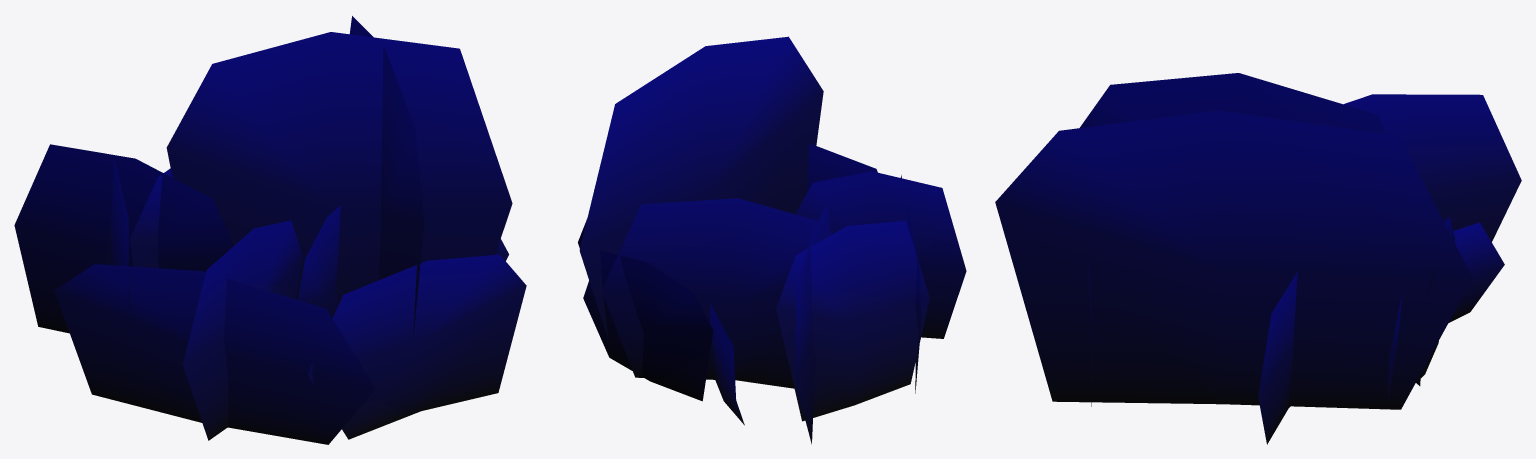
File: SM_Grass_S_Patch_Md_05.fbx
The picture shows the model from 3 angles, left to right: view 1: azimuth 30°, elevation 25°; view 2: azimuth 150°, elevation 25°; view 3: azimuth 270°, elevation 25°; orthographic projection. The views are drawn at different scales.
Visible parts, largest first — view 1: SM_Grass_S_Patch_Md_05; view 2: SM_Grass_S_Patch_Md_05; view 3: SM_Grass_S_Patch_Md_05.
Boxes of the visible parts, <box> form: SM_Grass_S_Patch_Md_05: <box>14,16,526,444</box>; SM_Grass_S_Patch_Md_05: <box>578,36,966,444</box>; SM_Grass_S_Patch_Md_05: <box>995,73,1521,444</box>.
Size of the model in its own units: 77.71 by 80.89 by 56.97.
